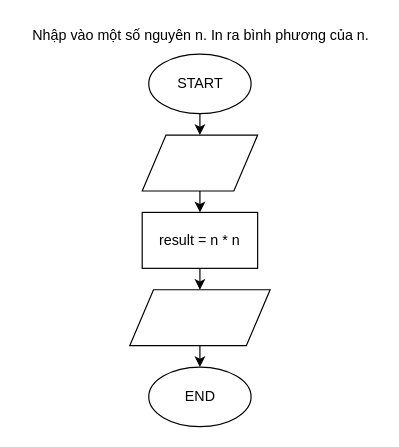
The diagram is 399 pixels wide and 447 high, and some of its shapes have lost their labels. Each missing label, with the centre of its shape:
INPUT n: pixel 199 162
OUTPUT result: pixel 199 317
